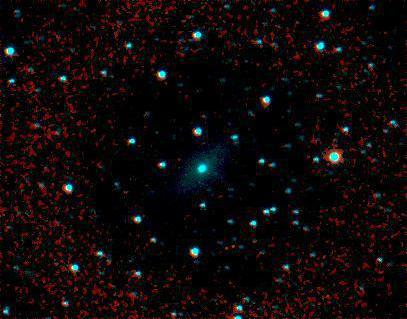star: (216, 232, 246, 262)
